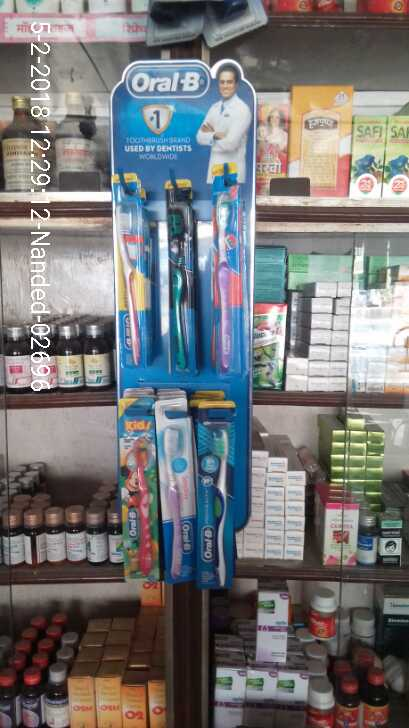oralb: (202, 181, 247, 374), (103, 184, 147, 367), (199, 420, 244, 595), (116, 409, 161, 584), (155, 414, 196, 582), (157, 188, 195, 365)
